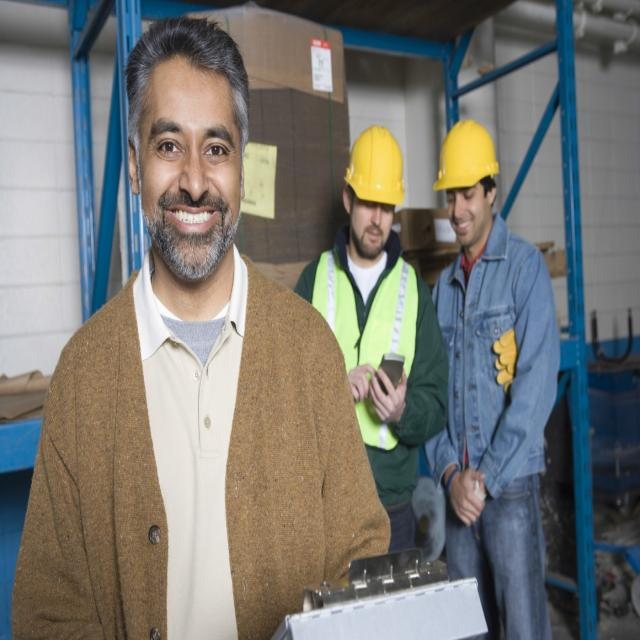Reflective-Jacket: (309, 244, 422, 452)
Safety-Helmet: (431, 112, 502, 195), (342, 119, 409, 206)
